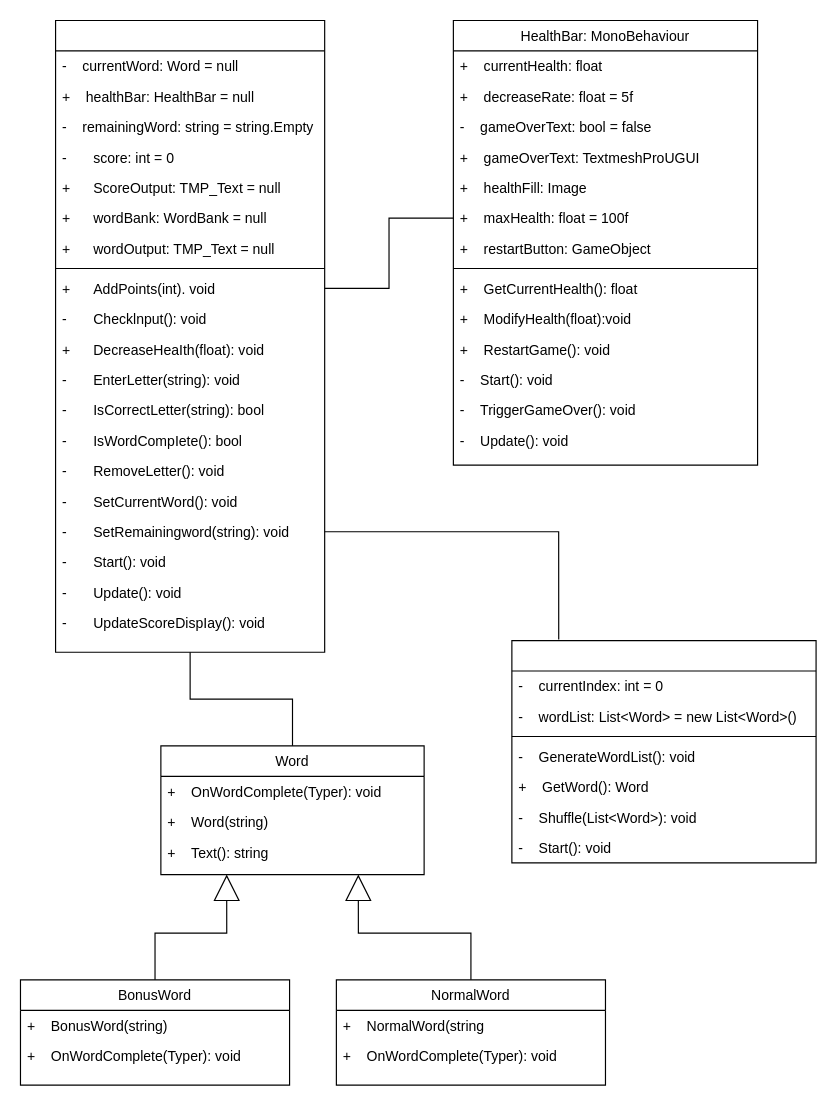
This 837x1106 diagram has some shape labels left out. Here are the shapes that lost their labels. From the top down, the box of each, then its label:
(54, 19, 325, 652): Typer: MonoBehaviour
(511, 639, 816, 863): WordBank: MonoBehaviour
